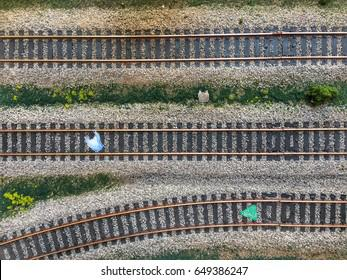Dust_screen: (240, 203, 260, 224)
Plastic: (81, 131, 106, 154), (194, 88, 213, 104)
